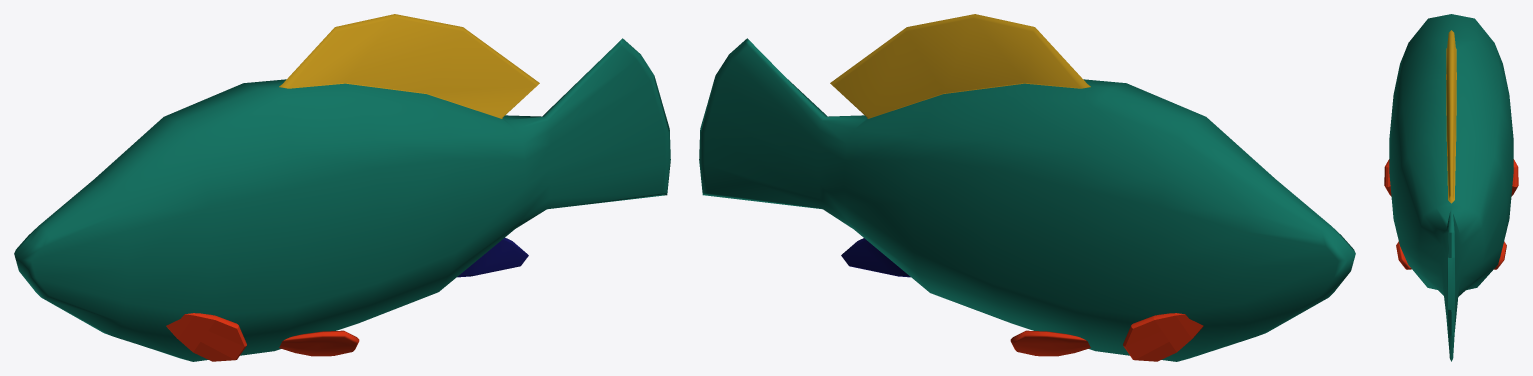
Rendered from Bungeo.fbx.
3 views of the same model, side by side, from view 1: azimuth 30°, elevation 25°; view 2: azimuth 150°, elevation 25°; view 3: azimuth 270°, elevation 25° (orthographic). The views are drawn at different scales.
Visible parts, largest first — view 1: Bungeo; view 2: Bungeo; view 3: Bungeo.
Boxes of the visible parts, left/top/right/bottom form: Bungeo: left=14, top=14, right=670, bottom=361; Bungeo: left=699, top=14, right=1355, bottom=361; Bungeo: left=1384, top=14, right=1518, bottom=361.
Bounding box in the file's own units: 7.49 × 3.36 × 1.65.
